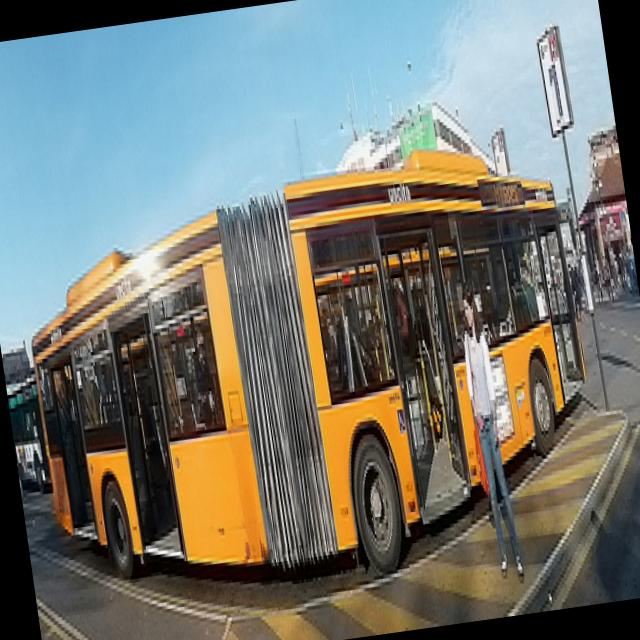Vehicle: (11, 130, 612, 620), (5, 370, 50, 498)
